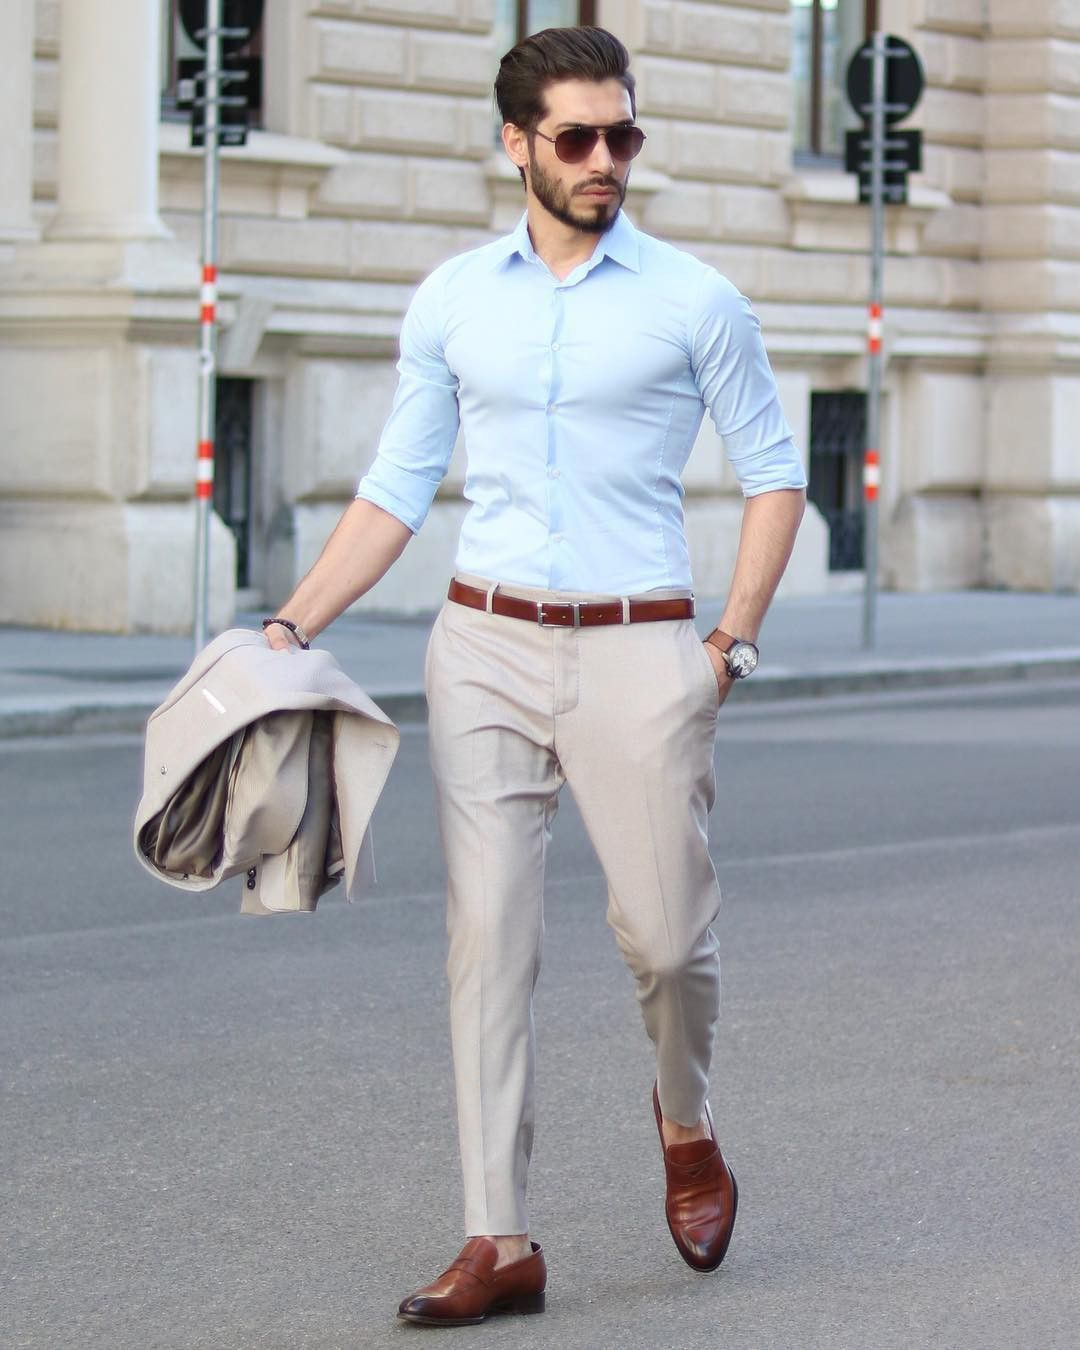F_belt: (433, 569, 708, 640)
F_dress pants: (423, 628, 704, 1165)
F_shirt: (358, 210, 818, 607)
